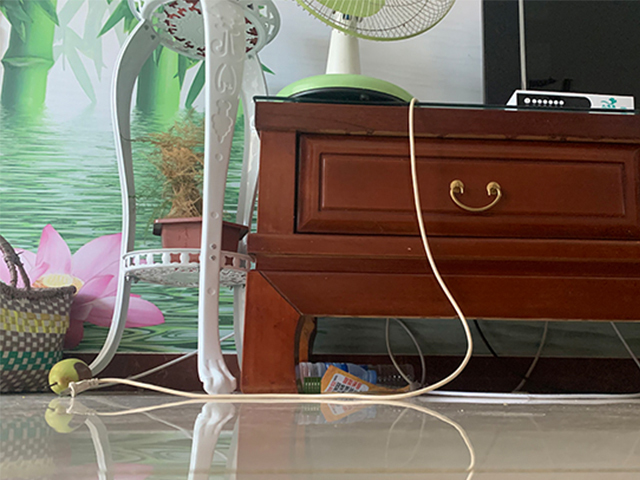cabinet: (240, 95, 639, 396)
wire: (54, 322, 636, 401)
